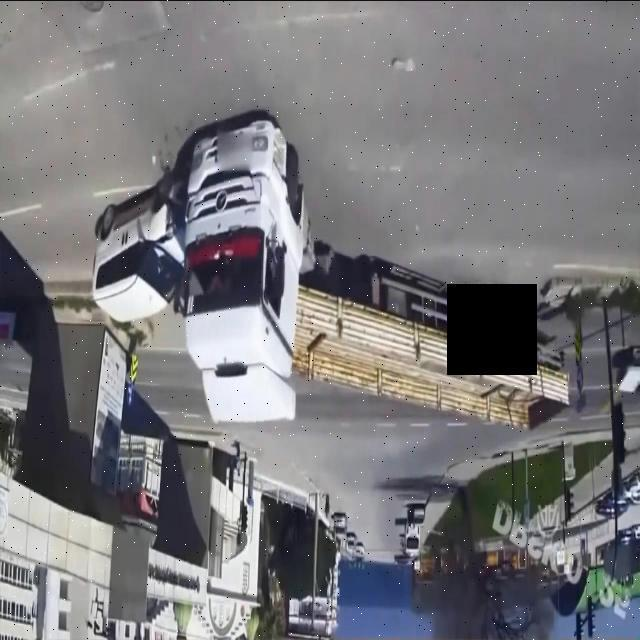vehicle: (88, 115, 578, 426)
